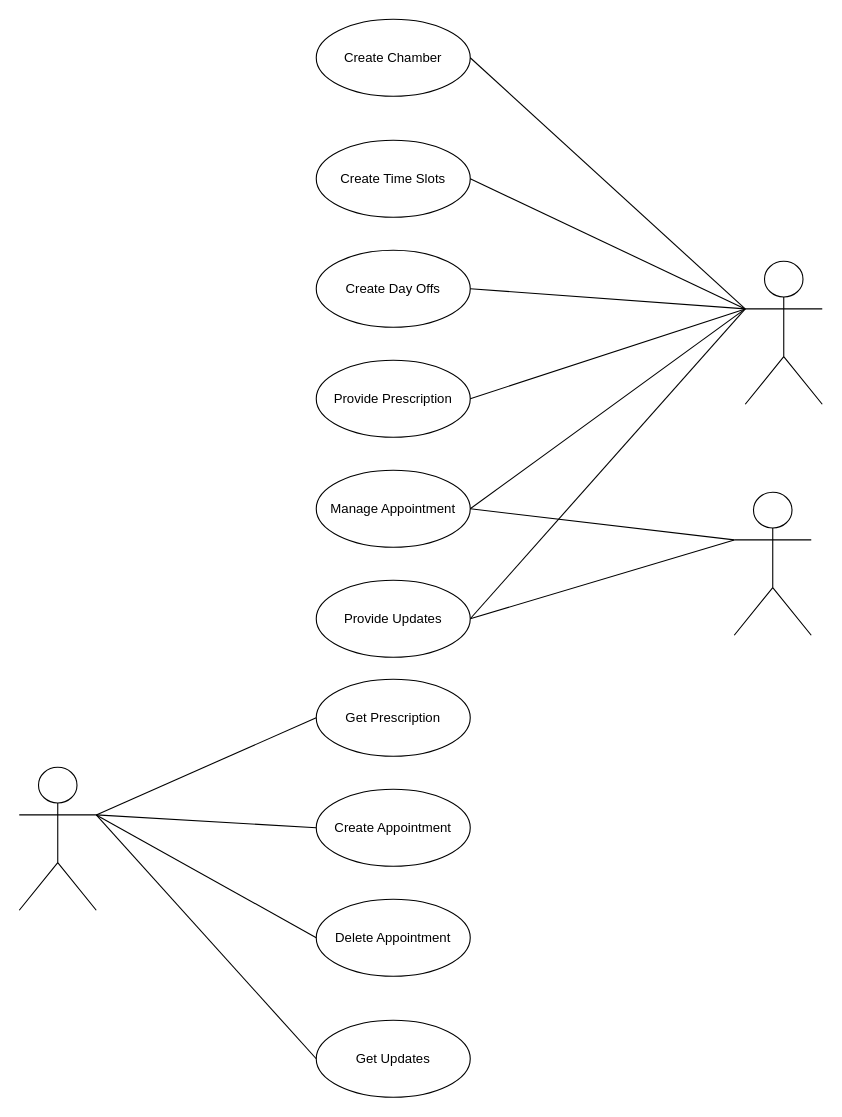
Image size: 842x1117. Some labels were removed from this diagram. The centre of each missing label's shape, as x and y in pixels:
"Doctor" goes at point (783, 332).
"Manager" goes at point (772, 563).
"Patient" goes at point (57, 838).
